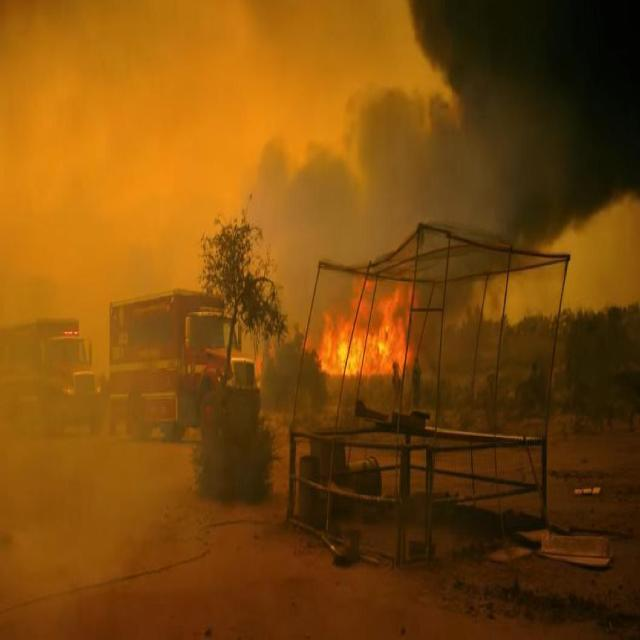Fire: (308, 266, 422, 388)
